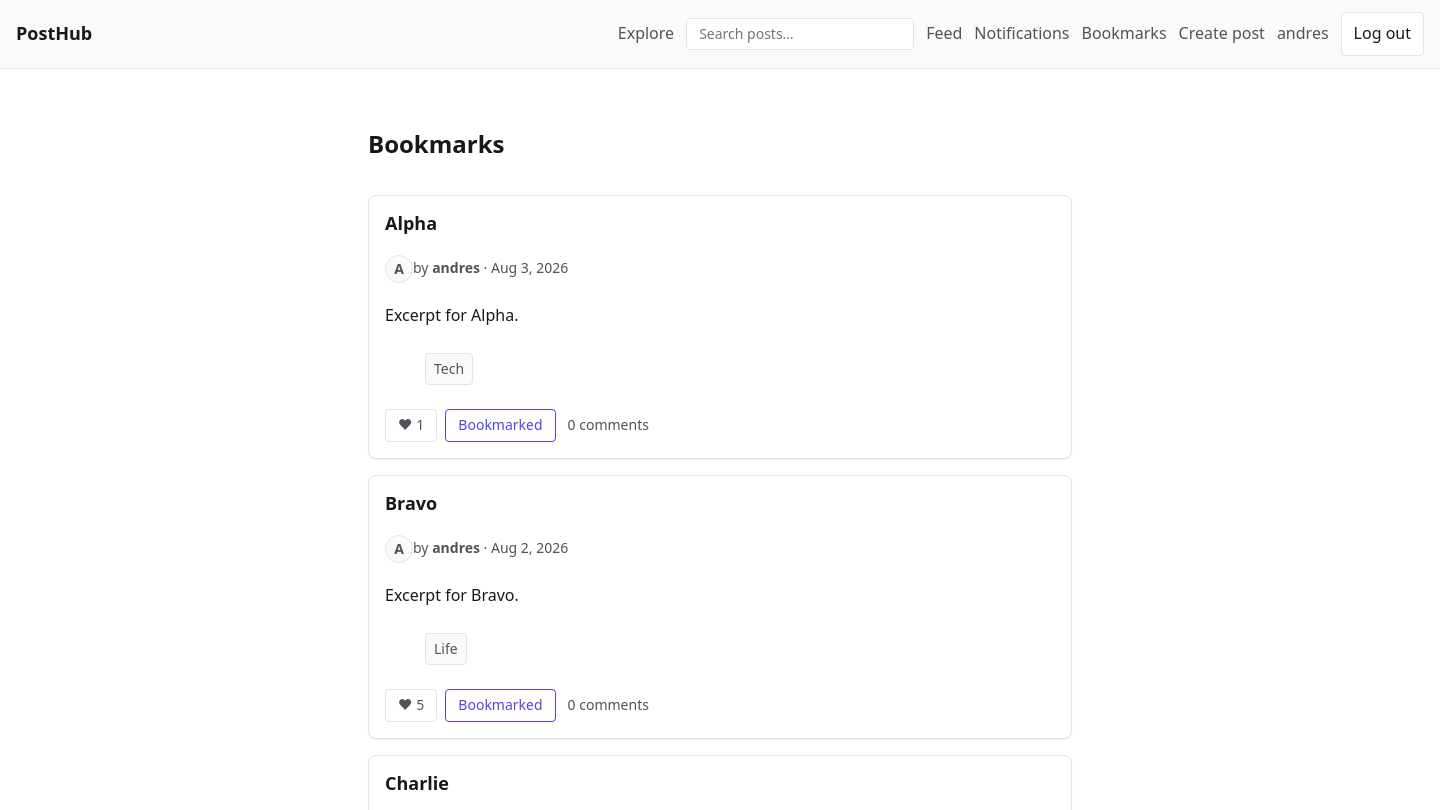
Test: Feed & Bookmarks › removes a card as soon as it is unbookmarked
Step 1. Click the button "Bookmarked" below "Excerpt for Alpha." → (500, 426), box [445,409,556,442]
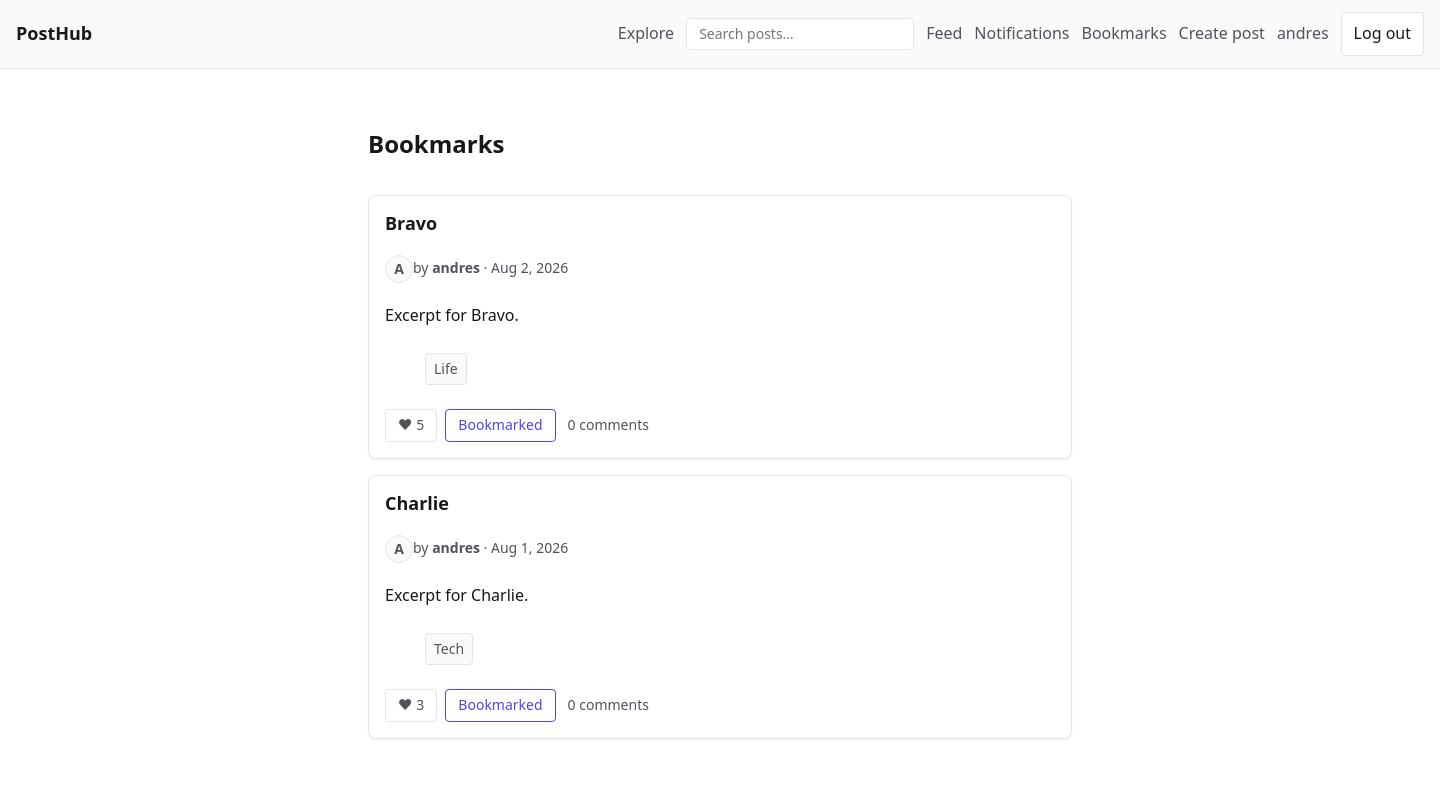
Expected: the link "Bravo" is shown, [385,211,437,235]
Expected: the link "Alpha" is gone
